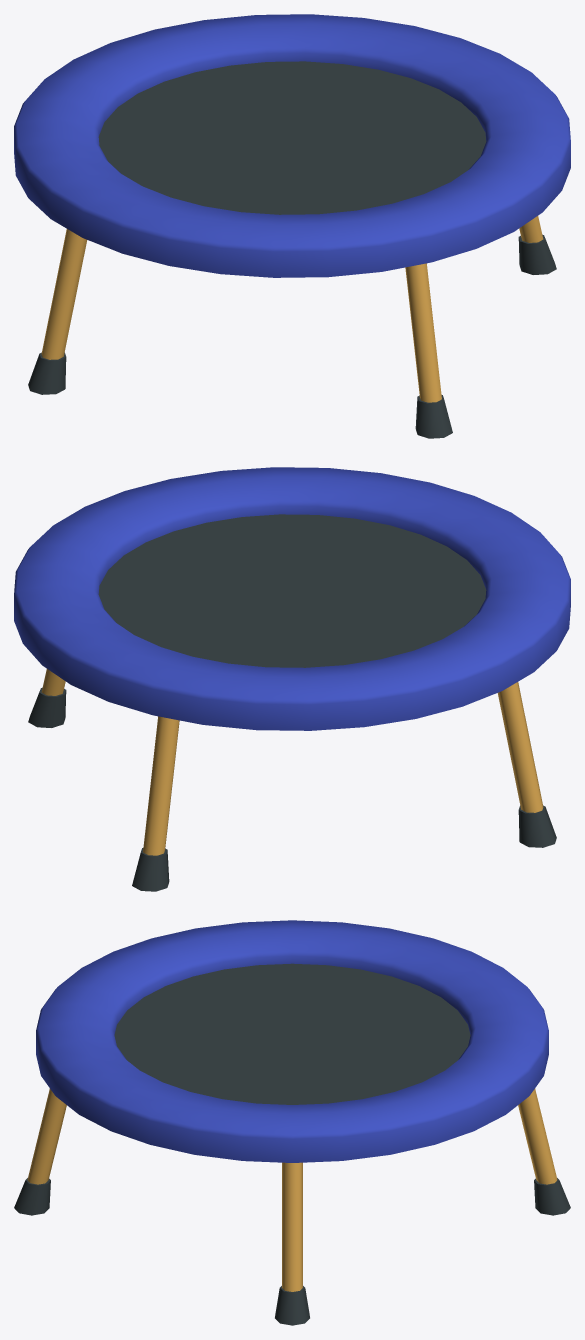
File: Trampoline_01.fbx
3 views of the same model, one above another, from view 1: azimuth 30°, elevation 25°; view 2: azimuth 150°, elevation 25°; view 3: azimuth 270°, elevation 25° (orthographic). The views are drawn at different scales.
Parts seen in each view (by area): view 1: Trampoline_01; view 2: Trampoline_01; view 3: Trampoline_01.
Part boxes in pixels (x1=…): Trampoline_01: x1=14, y1=14, x2=570, y2=438; Trampoline_01: x1=14, y1=467, x2=570, y2=891; Trampoline_01: x1=14, y1=920, x2=570, y2=1325.
Size of the model in its own units: 1.34 by 0.4929 by 1.34.
